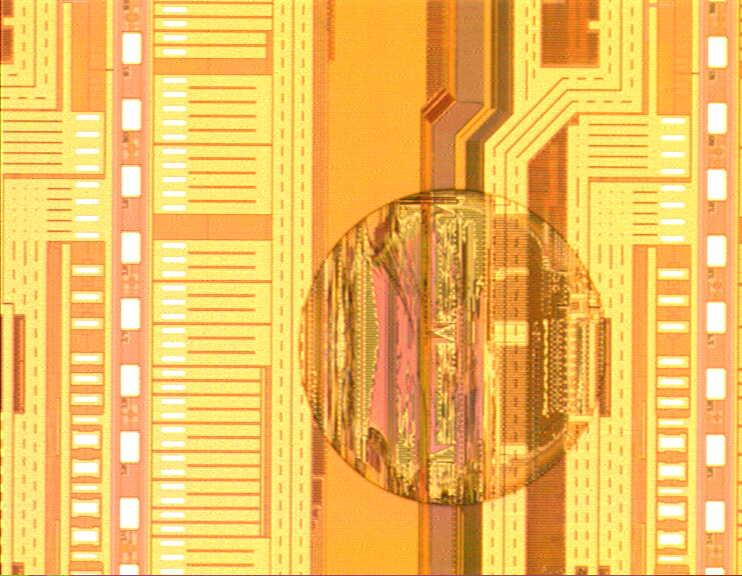BLOCK ETCH: (293, 189, 613, 509)
